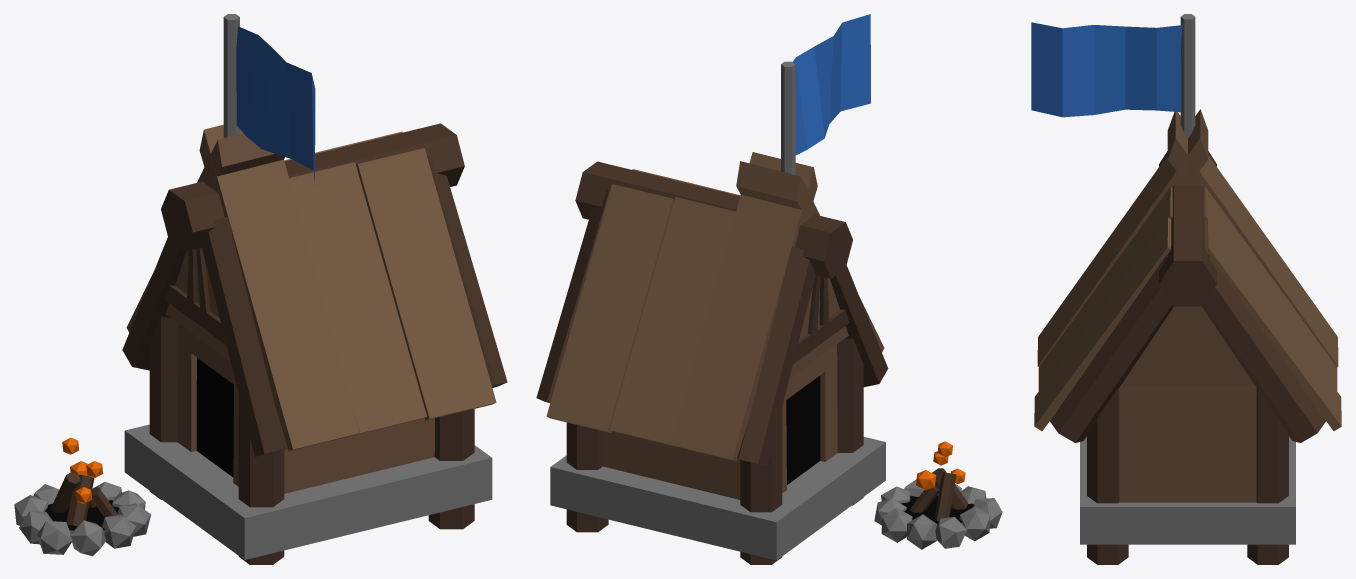
File: HQ LvL 1.fbx
The picture shows the model from 3 angles, left to right: view 1: azimuth 30°, elevation 25°; view 2: azimuth 150°, elevation 25°; view 3: azimuth 270°, elevation 25°; orthographic projection. The views are drawn at different scales.
Parts seen in each view (by area): view 1: Main.001, Fan, Fireplace.001, Fan Pole, Fire.001; view 2: Main.001, Fan, Fireplace.001, Fan Pole, Fire.001; view 3: Main.001, Fan, Fan Pole.
Boxes of the visible parts, x1,y1,x2,y2 form: Main.001: (122, 123, 507, 564); Fan: (236, 26, 315, 184); Fireplace.001: (14, 472, 151, 556); Fan Pole: (223, 14, 239, 137); Fire.001: (62, 437, 103, 503); Main.001: (536, 152, 888, 564); Fan: (793, 14, 870, 155); Fireplace.001: (874, 468, 1002, 549); Fan Pole: (781, 61, 795, 174); Fire.001: (916, 441, 965, 490); Main.001: (1034, 109, 1341, 564); Fan: (1031, 22, 1182, 117); Fan Pole: (1180, 14, 1195, 137).
Size of the model in its own units: 128 by 146 by 88.46.
